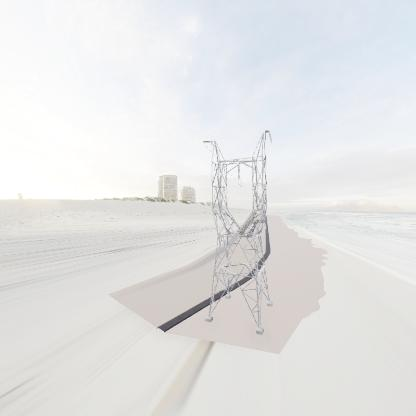tower: (199, 126, 279, 340)
